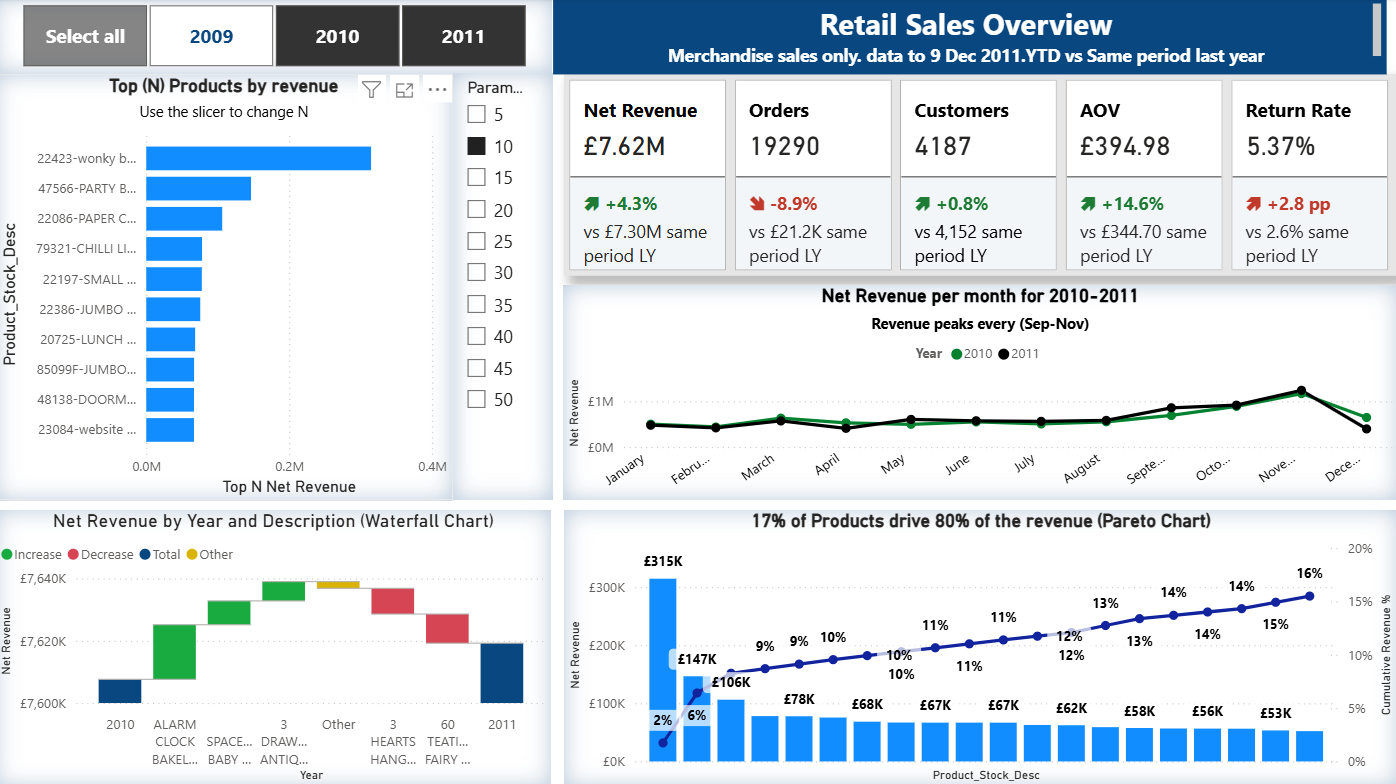

Layout of this report page (visuals, bound fields, positions):
{"tool":"powerbi","page":{"name":"Retail","canvas":[1280,720],"ordinal":0},"visuals":[{"type":"cardVisual","fields":{"Data":["All Measures.Net Revenue CY","All Measures.Orders CY","All Measures.Customers CY","All Measures.AOV CY","All Measures.Return Rate CY"]},"box":[518.7,69,761.4,184.4],"z":0},{"type":"textbox","box":[150,408,300,300],"z":1},{"type":"textbox","box":[508.9,0,760.6,69.6],"z":2},{"type":"slicer","fields":{"Values":["DimDate.Year"]},"box":[0,0,508.1,69],"z":3},{"type":"lineChart","title":"Net Revenue per month for 2010-2011","fields":{"Category":["DimDate.MonthName"],"Series":["DimDate.Year"],"Y":["All Measures.Net Revenue"]},"box":[517.9,262.1,762.2,196.3],"z":5},{"type":"waterfallChart","title":"Net Revenue by Year and Description (Waterfall Chart)","fields":{"Breakdown":["FactSales.Description"],"Category":["DimDate.Year"],"Y":["All Measures.Net Revenue"]},"box":[0,467.2,507.7,253.2],"z":7},{"type":"lineStackedColumnComboChart","title":"17% of Products drive 80% of the revenue  (Pareto Chart)","fields":{"Category":["DimProduct.Product_Stock_Desc"],"Y":["All Measures.Net Revenue"],"Y2":["All Measures.Cumulative Revenue %"]},"box":[519.1,467.2,761,253.2],"z":9},{"type":"clusteredBarChart","title":"Top (N) Products by revenue","fields":{"Category":["DimProduct.Product_Stock_Desc"],"Y":["All Measures.Top N Net Revenue"]},"box":[0,69.6,417.8,388.7],"z":10},{"type":"slicer","fields":{"Values":["Parameter.Parameter"]},"box":[417.8,68.4,91.2,390],"z":11}]}

Visuals, with their boxes in screenshot pixels (x1, y1, x2, y2), scaled from the page's 1280x720 canvas onto the 1396x784 screenshot:
cardVisual - All Measures.Net Revenue CY x All Measures.Orders CY: (566, 75, 1395, 276)
textbox: (164, 444, 491, 771)
textbox: (555, 0, 1385, 76)
slicer - DimDate.Year: (0, 0, 554, 75)
"Net Revenue per month for 2010-2011" lineChart: (565, 285, 1395, 499)
"Net Revenue by Year and Description (Waterfall Chart)" waterfallChart: (0, 509, 554, 783)
"17% of Products drive 80% of the revenue  (Pareto Chart)" lineStackedColumnComboChart: (566, 509, 1395, 783)
"Top (N) Products by revenue" clusteredBarChart: (0, 76, 456, 499)
slicer - Parameter.Parameter: (456, 74, 555, 499)
